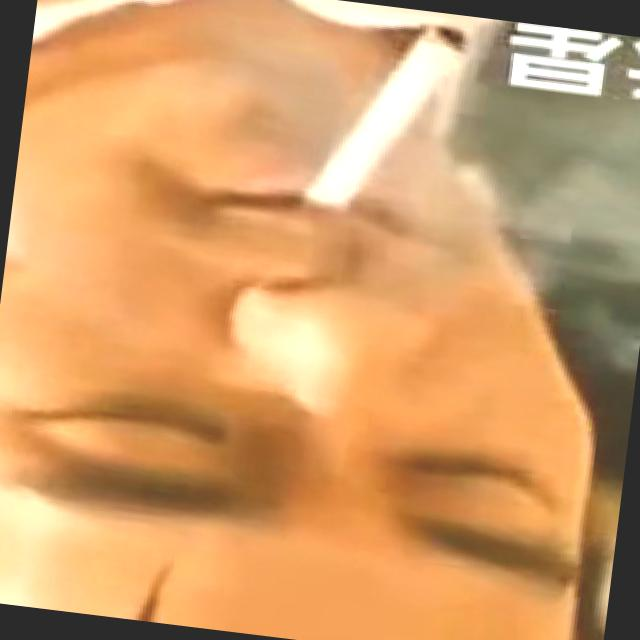smoke: (293, 14, 477, 236)
